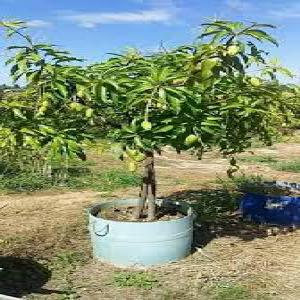Tree: (3, 18, 278, 266)
